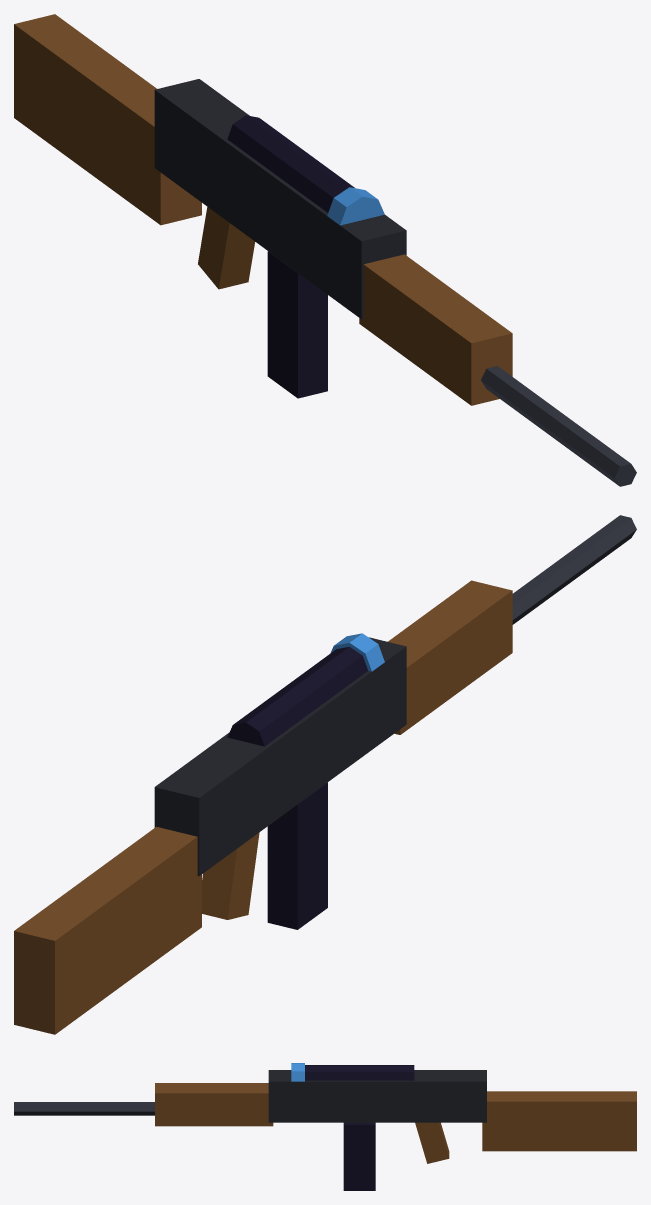
File: ridgeline_dmr.glb
The picture shows the model from 3 angles, top to bottom: view 1: azimuth 30°, elevation 25°; view 2: azimuth 150°, elevation 25°; view 3: azimuth 270°, elevation 25°; orthographic projection. The views are drawn at different scales.
Parts seen in each view (by area): view 1: model; view 2: model; view 3: model.
Part boxes in pixels (x1,y1,x2,y2): model: (14,14,636,486); model: (14,515,636,1034); model: (14,1063,636,1190).
Bounding box in the file's own units: 0.06 × 0.3 × 1.37.
